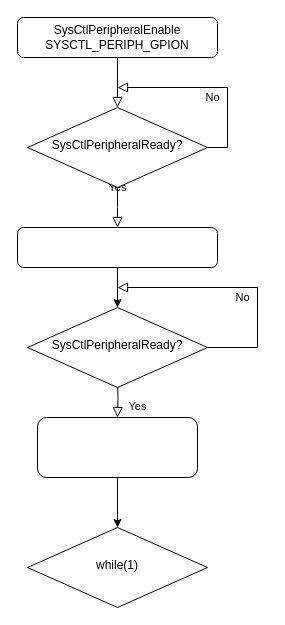
The diagram is 285 pixels wide and 625 high, and some of its shapes have lost their labels. Each missing label, with the centre of its shape:
GPIOPinTypeGPIOOutput( GPIO_PORTN_BASE, GPIO_PIN_0): pixel 117 447
SysCtlPeripheralEnable SYSCTL_PERIPH_GPIOJ: pixel 117 247
